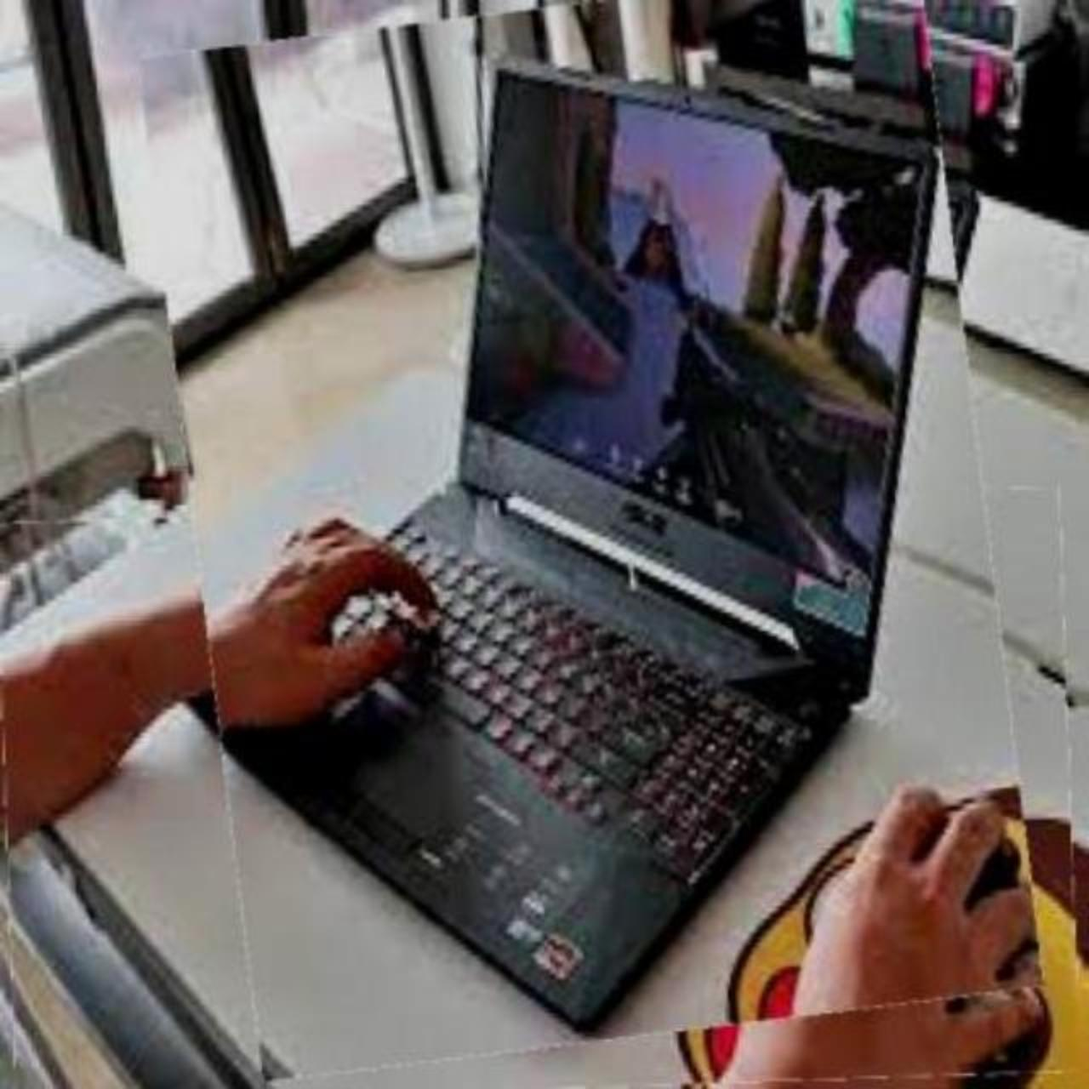laptop: (165, 1, 1012, 1058)
